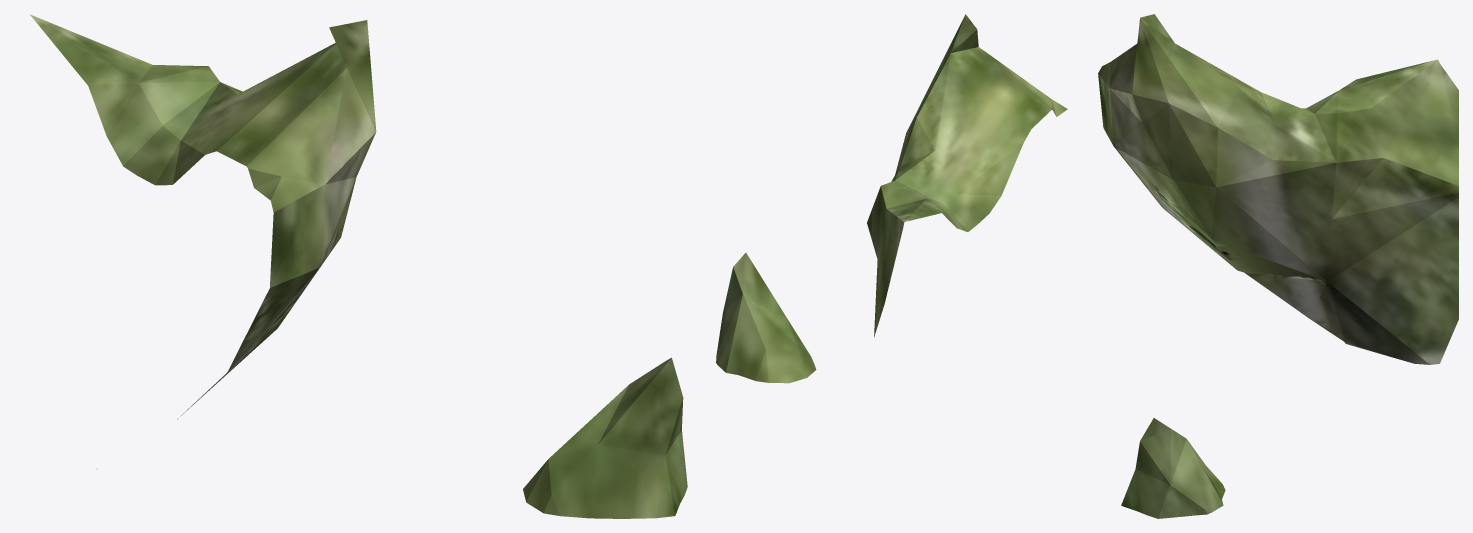
3 renders of one model, left to right at view 1: azimuth 30°, elevation 25°; view 2: azimuth 150°, elevation 25°; view 3: azimuth 270°, elevation 25°, orthographic. The views are drawn at different scales.
Bounding box in the file's own units: 0.8466 × 0.9802 × 0.8259.
1 material, 1 textured.
